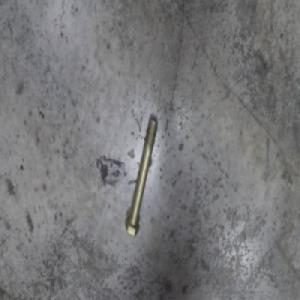Bolt: (125, 117, 159, 235)
